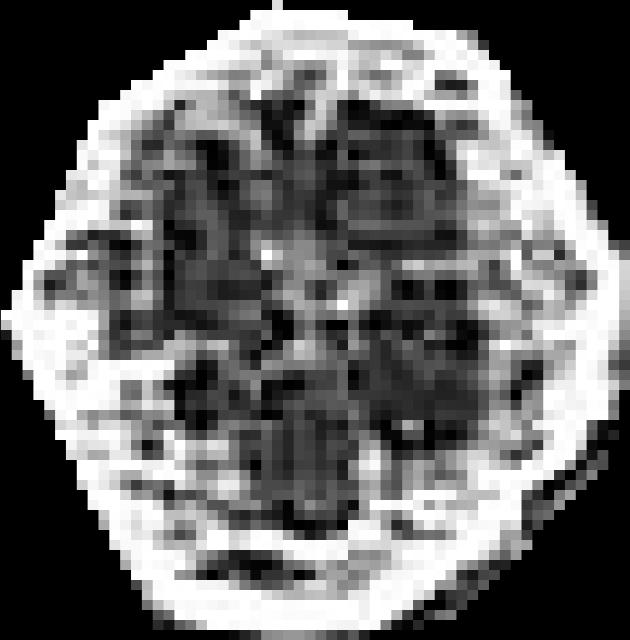tumor_good_chance: (1, 0, 630, 640)
